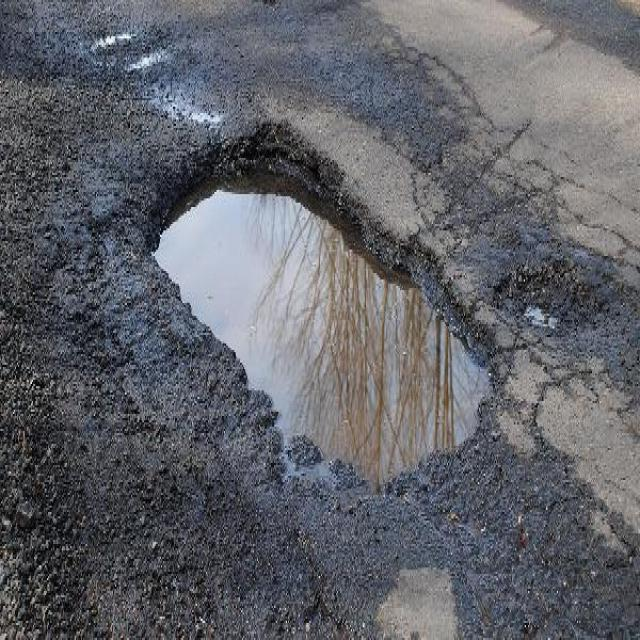pothole: (144, 113, 504, 495), (494, 250, 619, 336)
